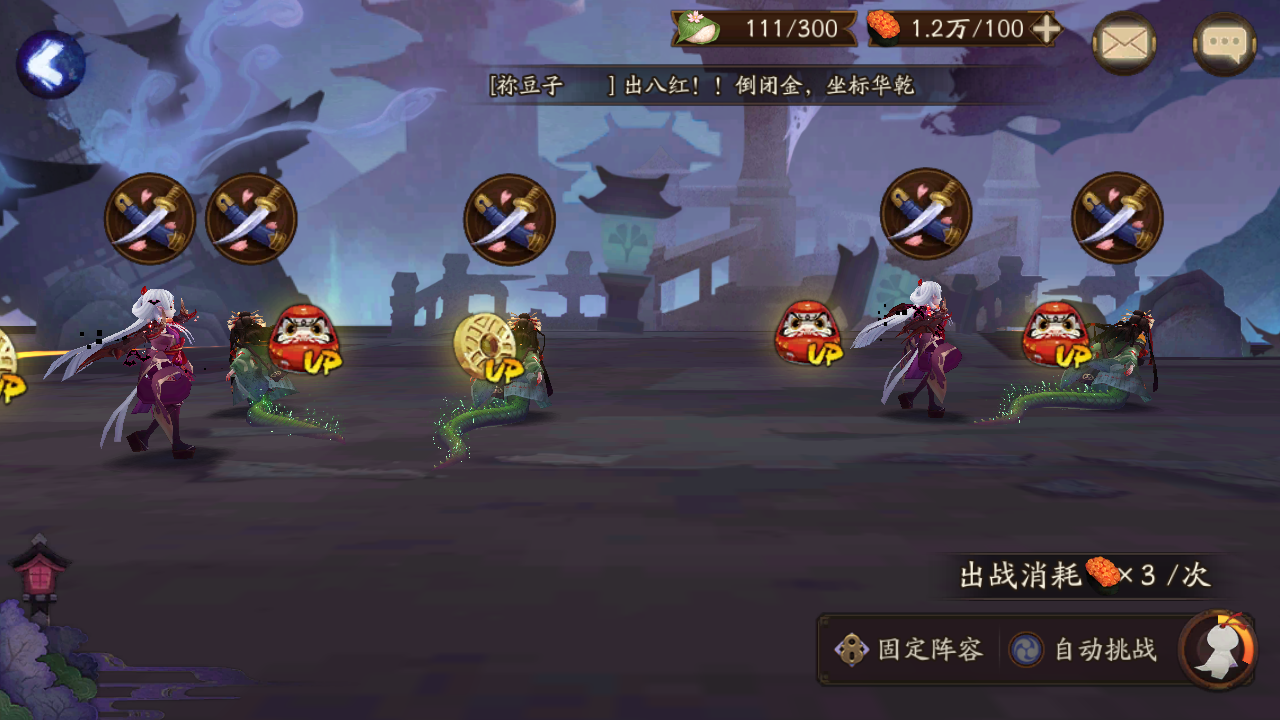material: (771, 297, 852, 371), (268, 304, 345, 380), (1019, 300, 1096, 372)
money: (452, 311, 528, 385)
